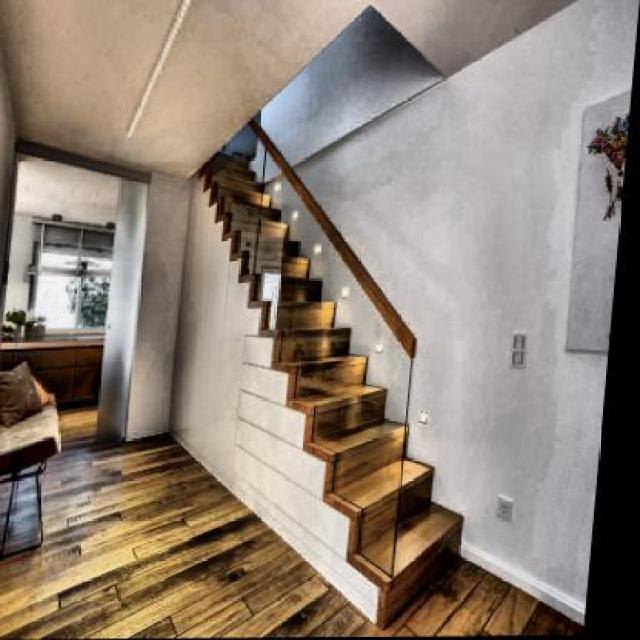stair: (177, 174, 498, 537)
